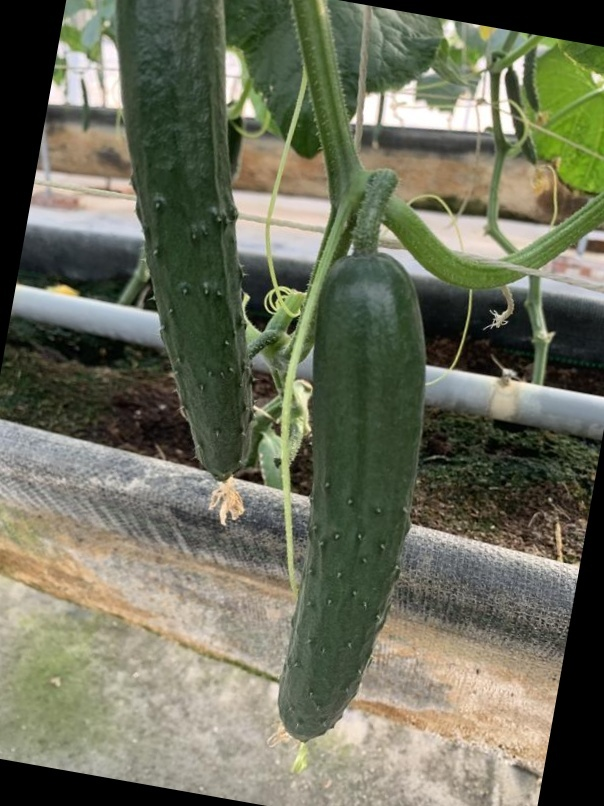mature: (274, 239, 435, 752)
